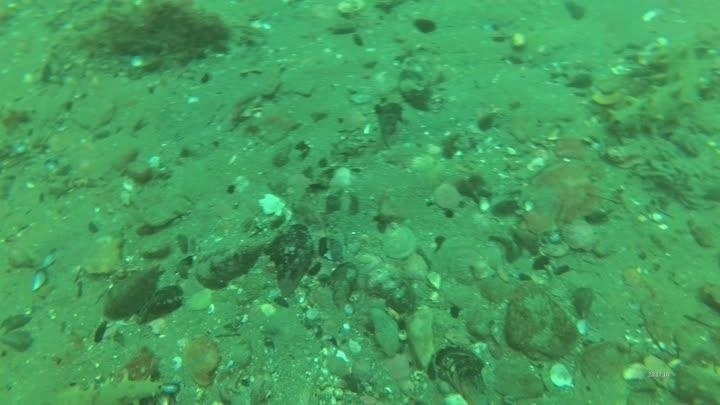holothurian: (607, 31, 717, 139), (57, 371, 174, 404)
